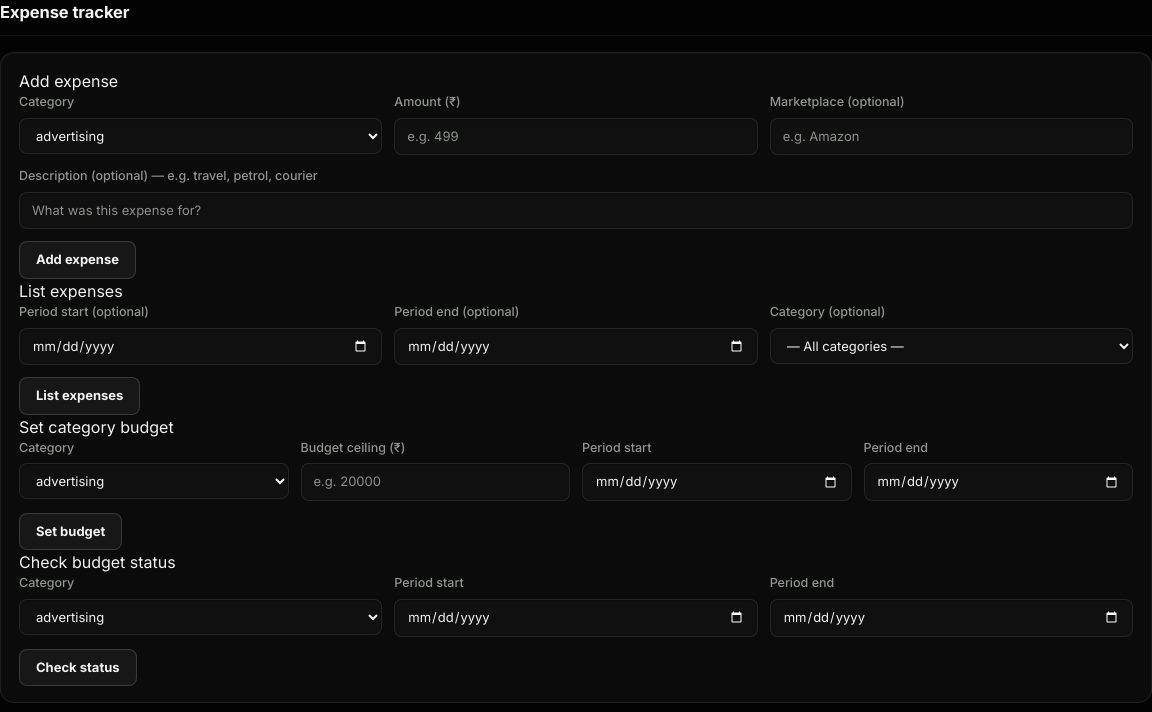
Expense Tracker › keeps the last list that loaded, and says it could not refresh, when a refresh fails
What coordinates should you click on to do the following:
click the button "List expenses"
I would click on:
 (80, 396)
Its box is [19,377,140,414].
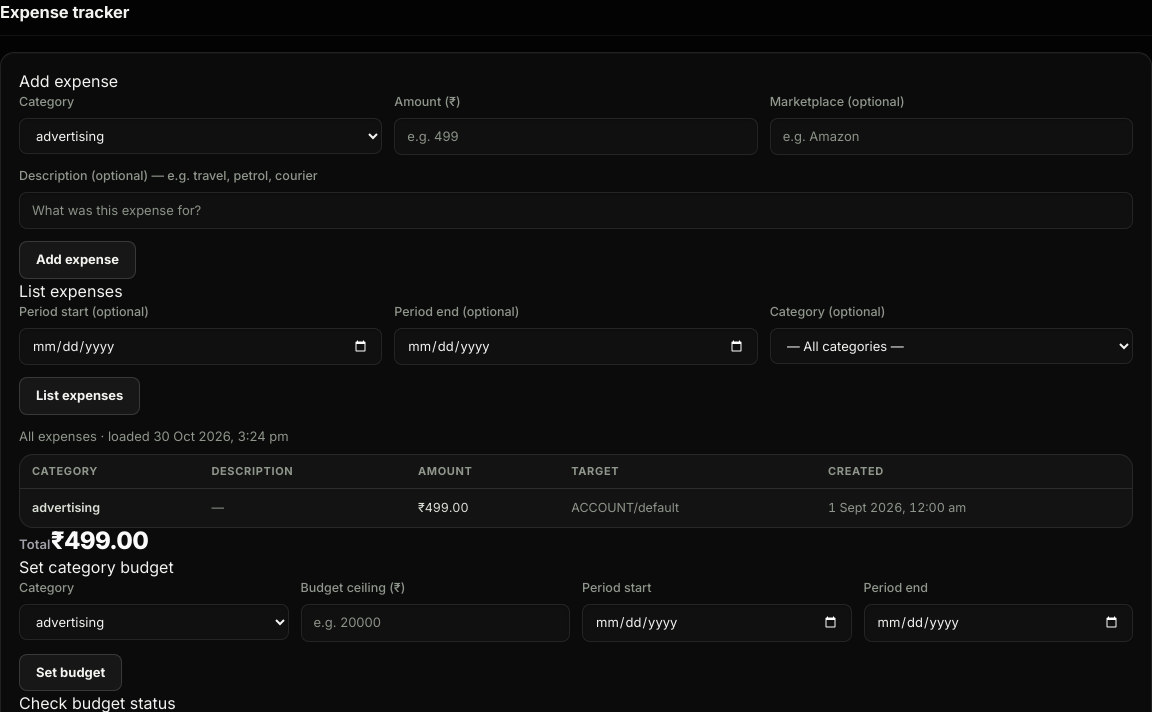
Result: the cell "advertising" is shown at [20,488,199,527]
Result: the text "All expenses · loaded 30 Oct 2026, 3:24 pm" is shown at [19,426,289,446]
What coordinates should you click on to do the following:
click the button "List expenses"
I would click on:
 (80, 396)
Its box is [19,377,140,414].
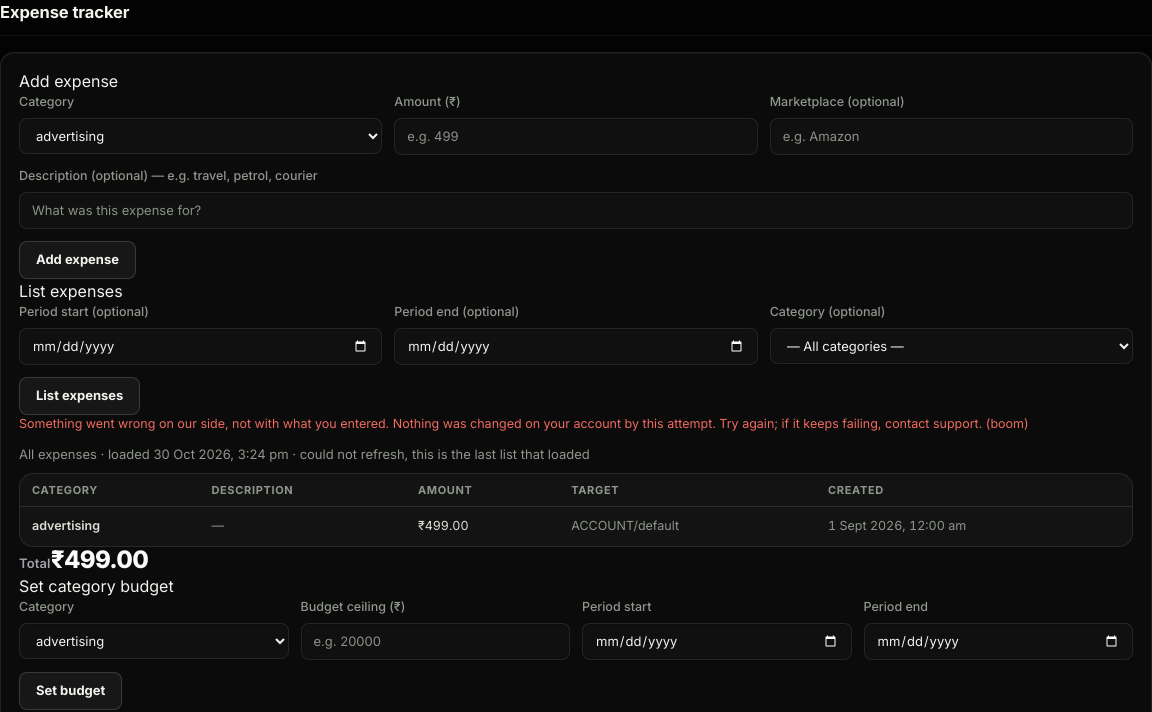
Result: the cell "advertising" is shown at [20,507,199,546]
Result: the text "could not refresh, this is the last list that loaded" is shown at [289,446,590,462]
